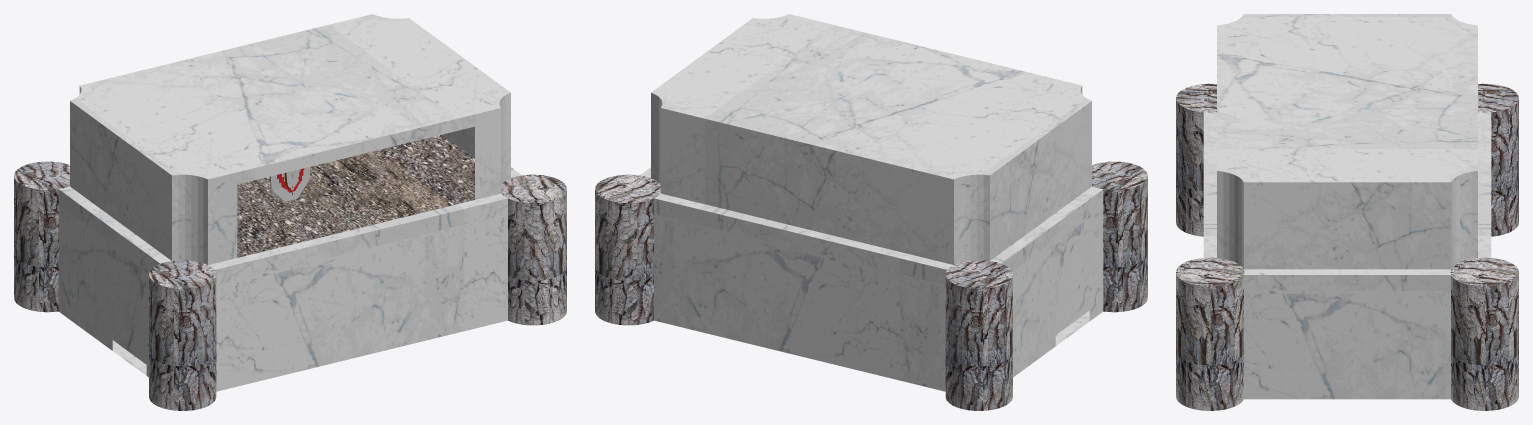
File: greek_archery_final.fbx
The picture shows the model from 3 angles, left to right: view 1: azimuth 30°, elevation 25°; view 2: azimuth 150°, elevation 25°; view 3: azimuth 270°, elevation 25°; orthographic projection.
Parts seen in each view (by area): view 1: house; view 2: house; view 3: house.
Boxes of the visible parts, bbox=[...] form: house: bbox=[14, 14, 566, 410]; house: bbox=[595, 14, 1147, 410]; house: bbox=[1176, 14, 1518, 410].
Bounding box in the file's own units: 350 × 170 × 250.
Materials: 6 (3 with a texture image).
